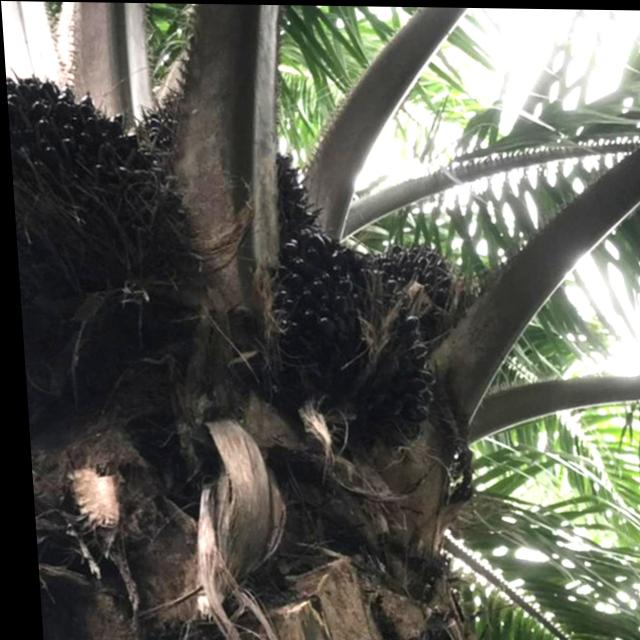almost: (4, 72, 191, 351), (257, 224, 430, 437), (366, 236, 456, 325)
